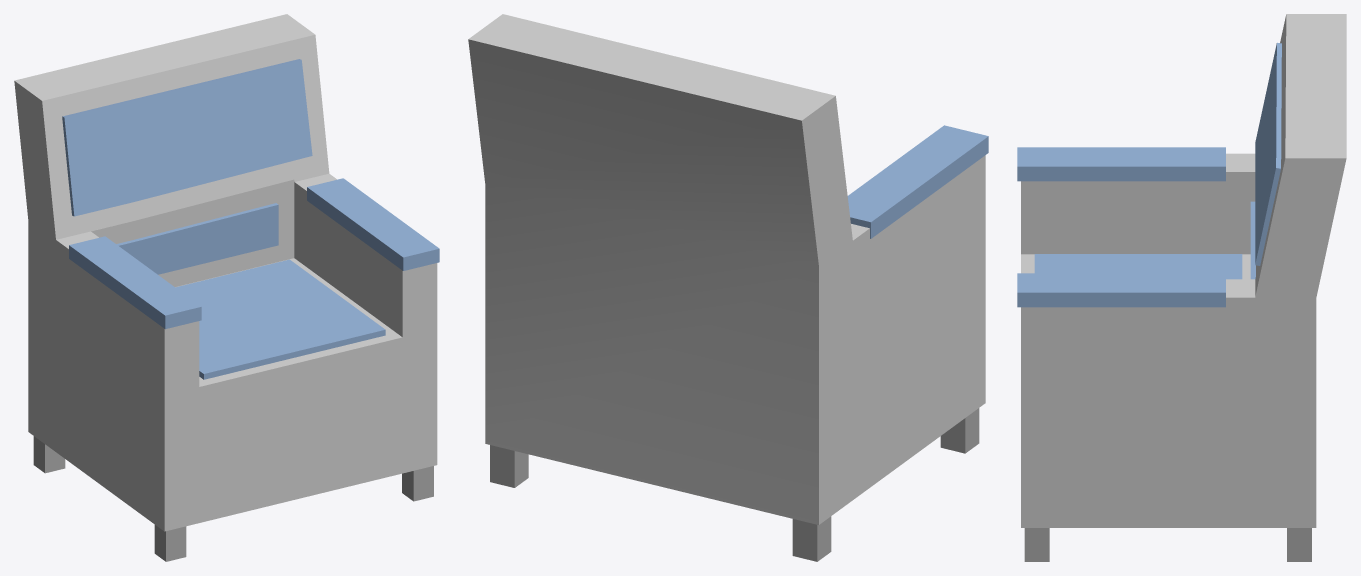
Rendered from chair_2.fbx.
3 renders of one model, left to right at view 1: azimuth 30°, elevation 25°; view 2: azimuth 150°, elevation 25°; view 3: azimuth 270°, elevation 25°, orthographic. The views are drawn at different scales.
Parts seen in each view (by area): view 1: Cube; view 2: Cube; view 3: Cube.
Part boxes in pixels (left/top/right/bottom): Cube: left=14, top=14, right=439, bottom=561; Cube: left=468, top=14, right=988, bottom=561; Cube: left=1017, top=14, right=1346, bottom=561.
Bounding box in the file's own units: 29.62 × 38.52 × 28.4.
